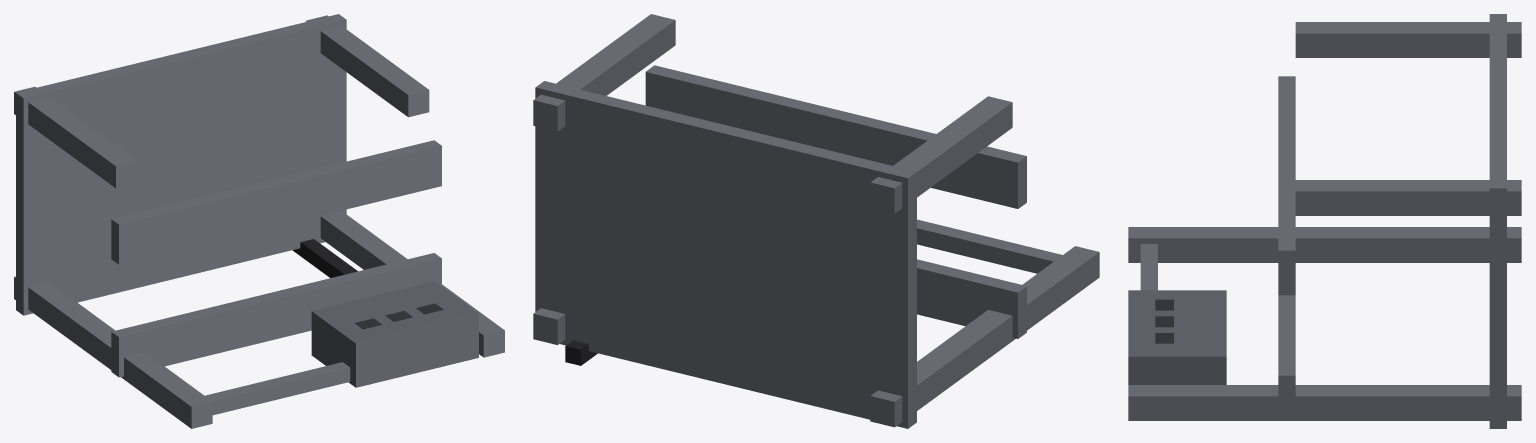
The model's file is bank_ground_standard_c0_S.obj.
3 views of the same model, side by side, from view 1: azimuth 30°, elevation 25°; view 2: azimuth 150°, elevation 25°; view 3: azimuth 270°, elevation 25° (orthographic). The views are drawn at different scales.
Visible parts, largest first — view 1: bank_ground_standard_c0_S; view 2: bank_ground_standard_c0_S; view 3: bank_ground_standard_c0_S.
Part boxes in pixels (x1,y1,x2,y2): bank_ground_standard_c0_S: [14, 14, 504, 428]; bank_ground_standard_c0_S: [533, 14, 1099, 428]; bank_ground_standard_c0_S: [1128, 14, 1521, 428].
Bounding box in the file's own units: 0.84 × 0.56 × 0.8.
Materials: 1 (1 with a texture image).
